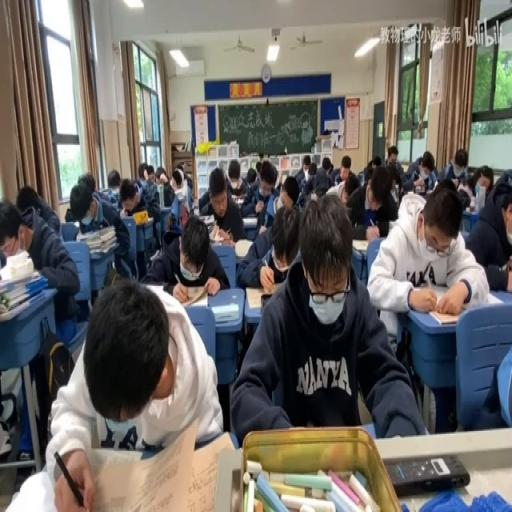calculator: (2, 466, 56, 510), (438, 284, 508, 308), (208, 222, 234, 244), (210, 302, 238, 322), (426, 309, 458, 324), (88, 240, 117, 256), (186, 290, 210, 307), (77, 226, 106, 240), (234, 236, 252, 258), (456, 185, 472, 205), (350, 239, 368, 252), (201, 219, 214, 235), (134, 215, 152, 226), (242, 214, 258, 224), (232, 195, 246, 205), (149, 248, 159, 260), (97, 185, 109, 193), (424, 186, 434, 194), (192, 202, 198, 213)
paper: (227, 190, 420, 441), (49, 276, 219, 510), (0, 192, 82, 341), (66, 176, 132, 283), (144, 210, 227, 294), (465, 171, 512, 286), (464, 327, 510, 431), (346, 162, 398, 239), (243, 159, 280, 229), (152, 168, 181, 227), (402, 146, 435, 190), (441, 148, 469, 188), (224, 157, 249, 199), (334, 155, 357, 189), (0, 216, 21, 249), (278, 175, 298, 209), (294, 158, 307, 188), (78, 171, 96, 192), (120, 189, 136, 212), (107, 169, 121, 192), (138, 160, 150, 184), (386, 145, 398, 165), (245, 166, 256, 185), (170, 172, 182, 189), (482, 172, 491, 191), (322, 155, 331, 172), (307, 161, 317, 176), (107, 188, 117, 202), (372, 155, 382, 168), (184, 174, 192, 189), (366, 161, 374, 175), (158, 175, 168, 186), (255, 161, 262, 176), (421, 158, 430, 169), (416, 158, 422, 171)
person: (384, 452, 468, 494), (259, 293, 272, 309)
